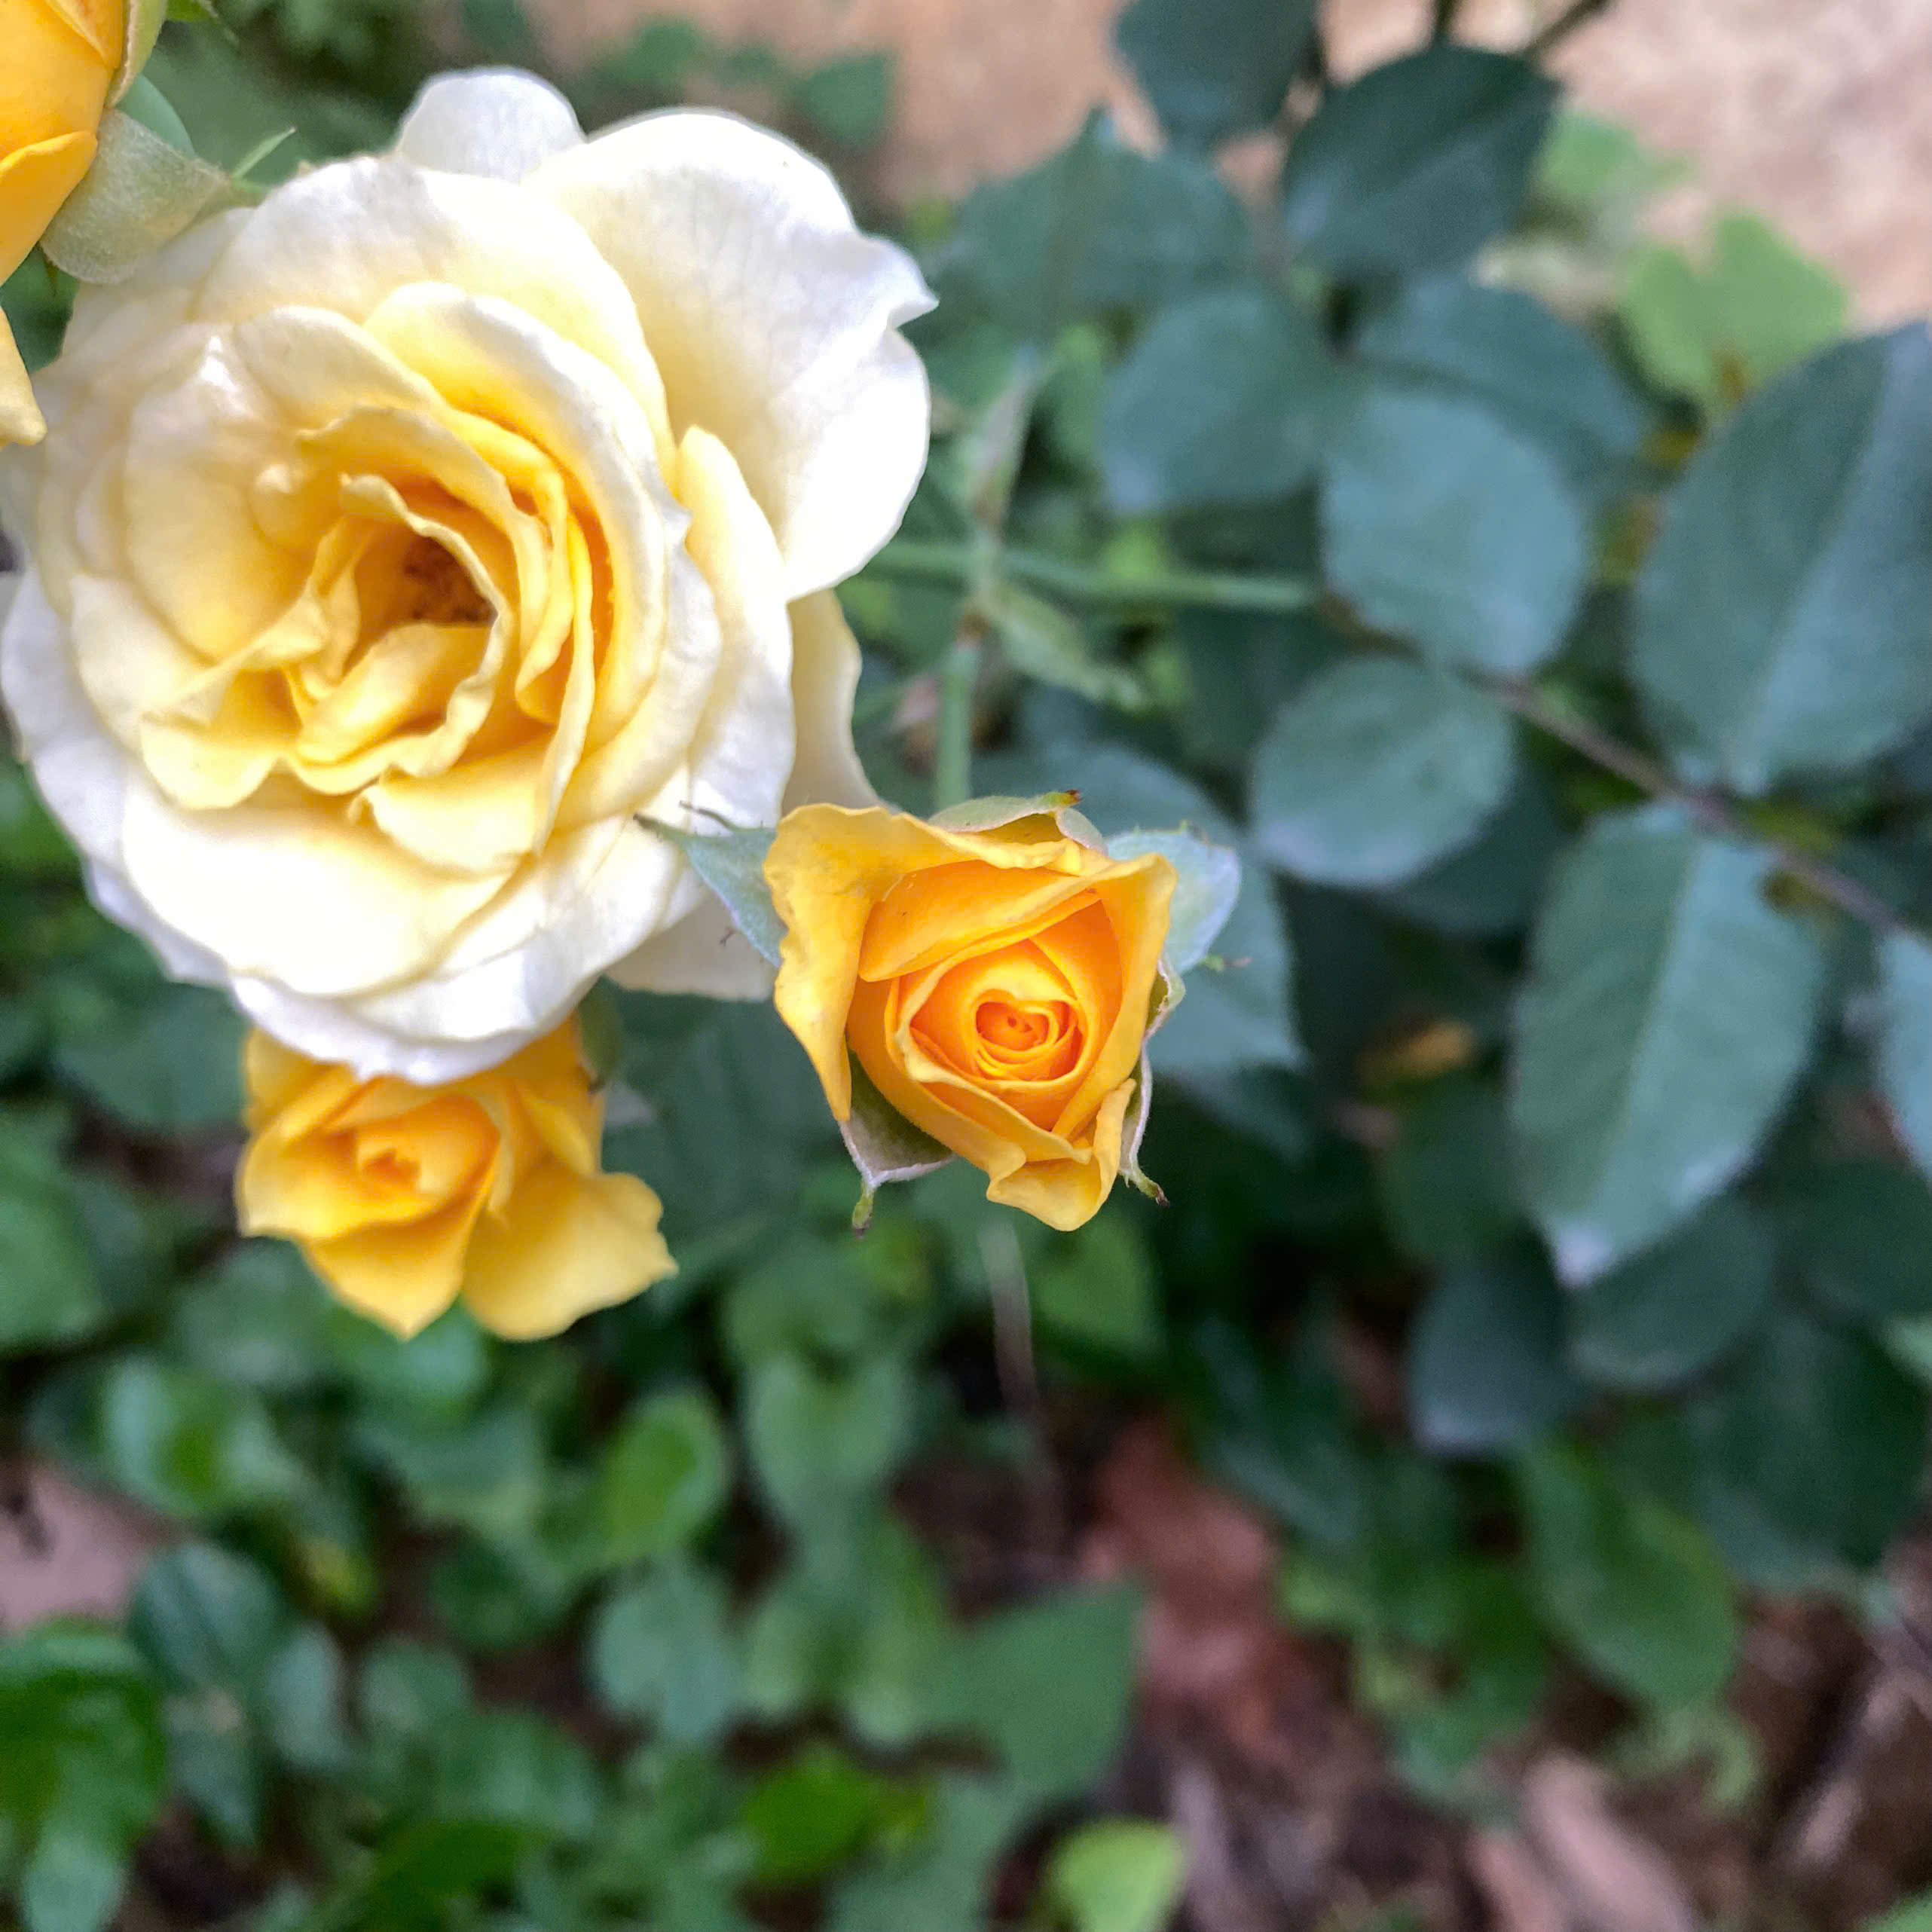hoa_thuoc_duoc: (0, 57, 1453, 1391)
